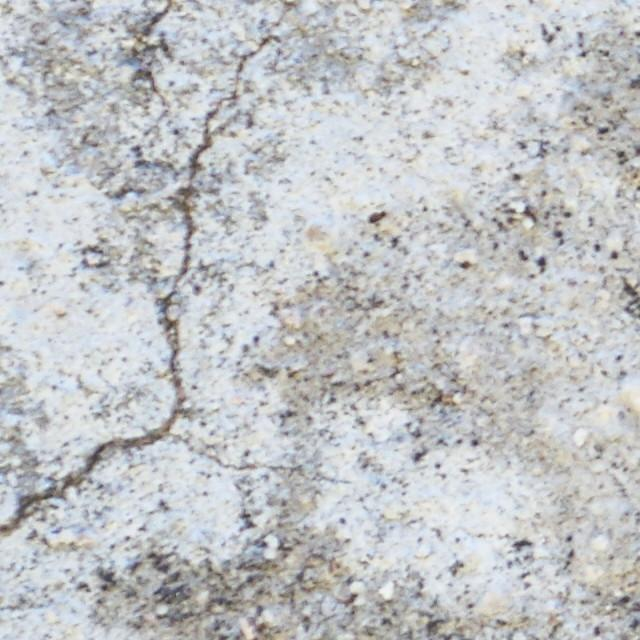branched cracks: (0, 32, 336, 535)
